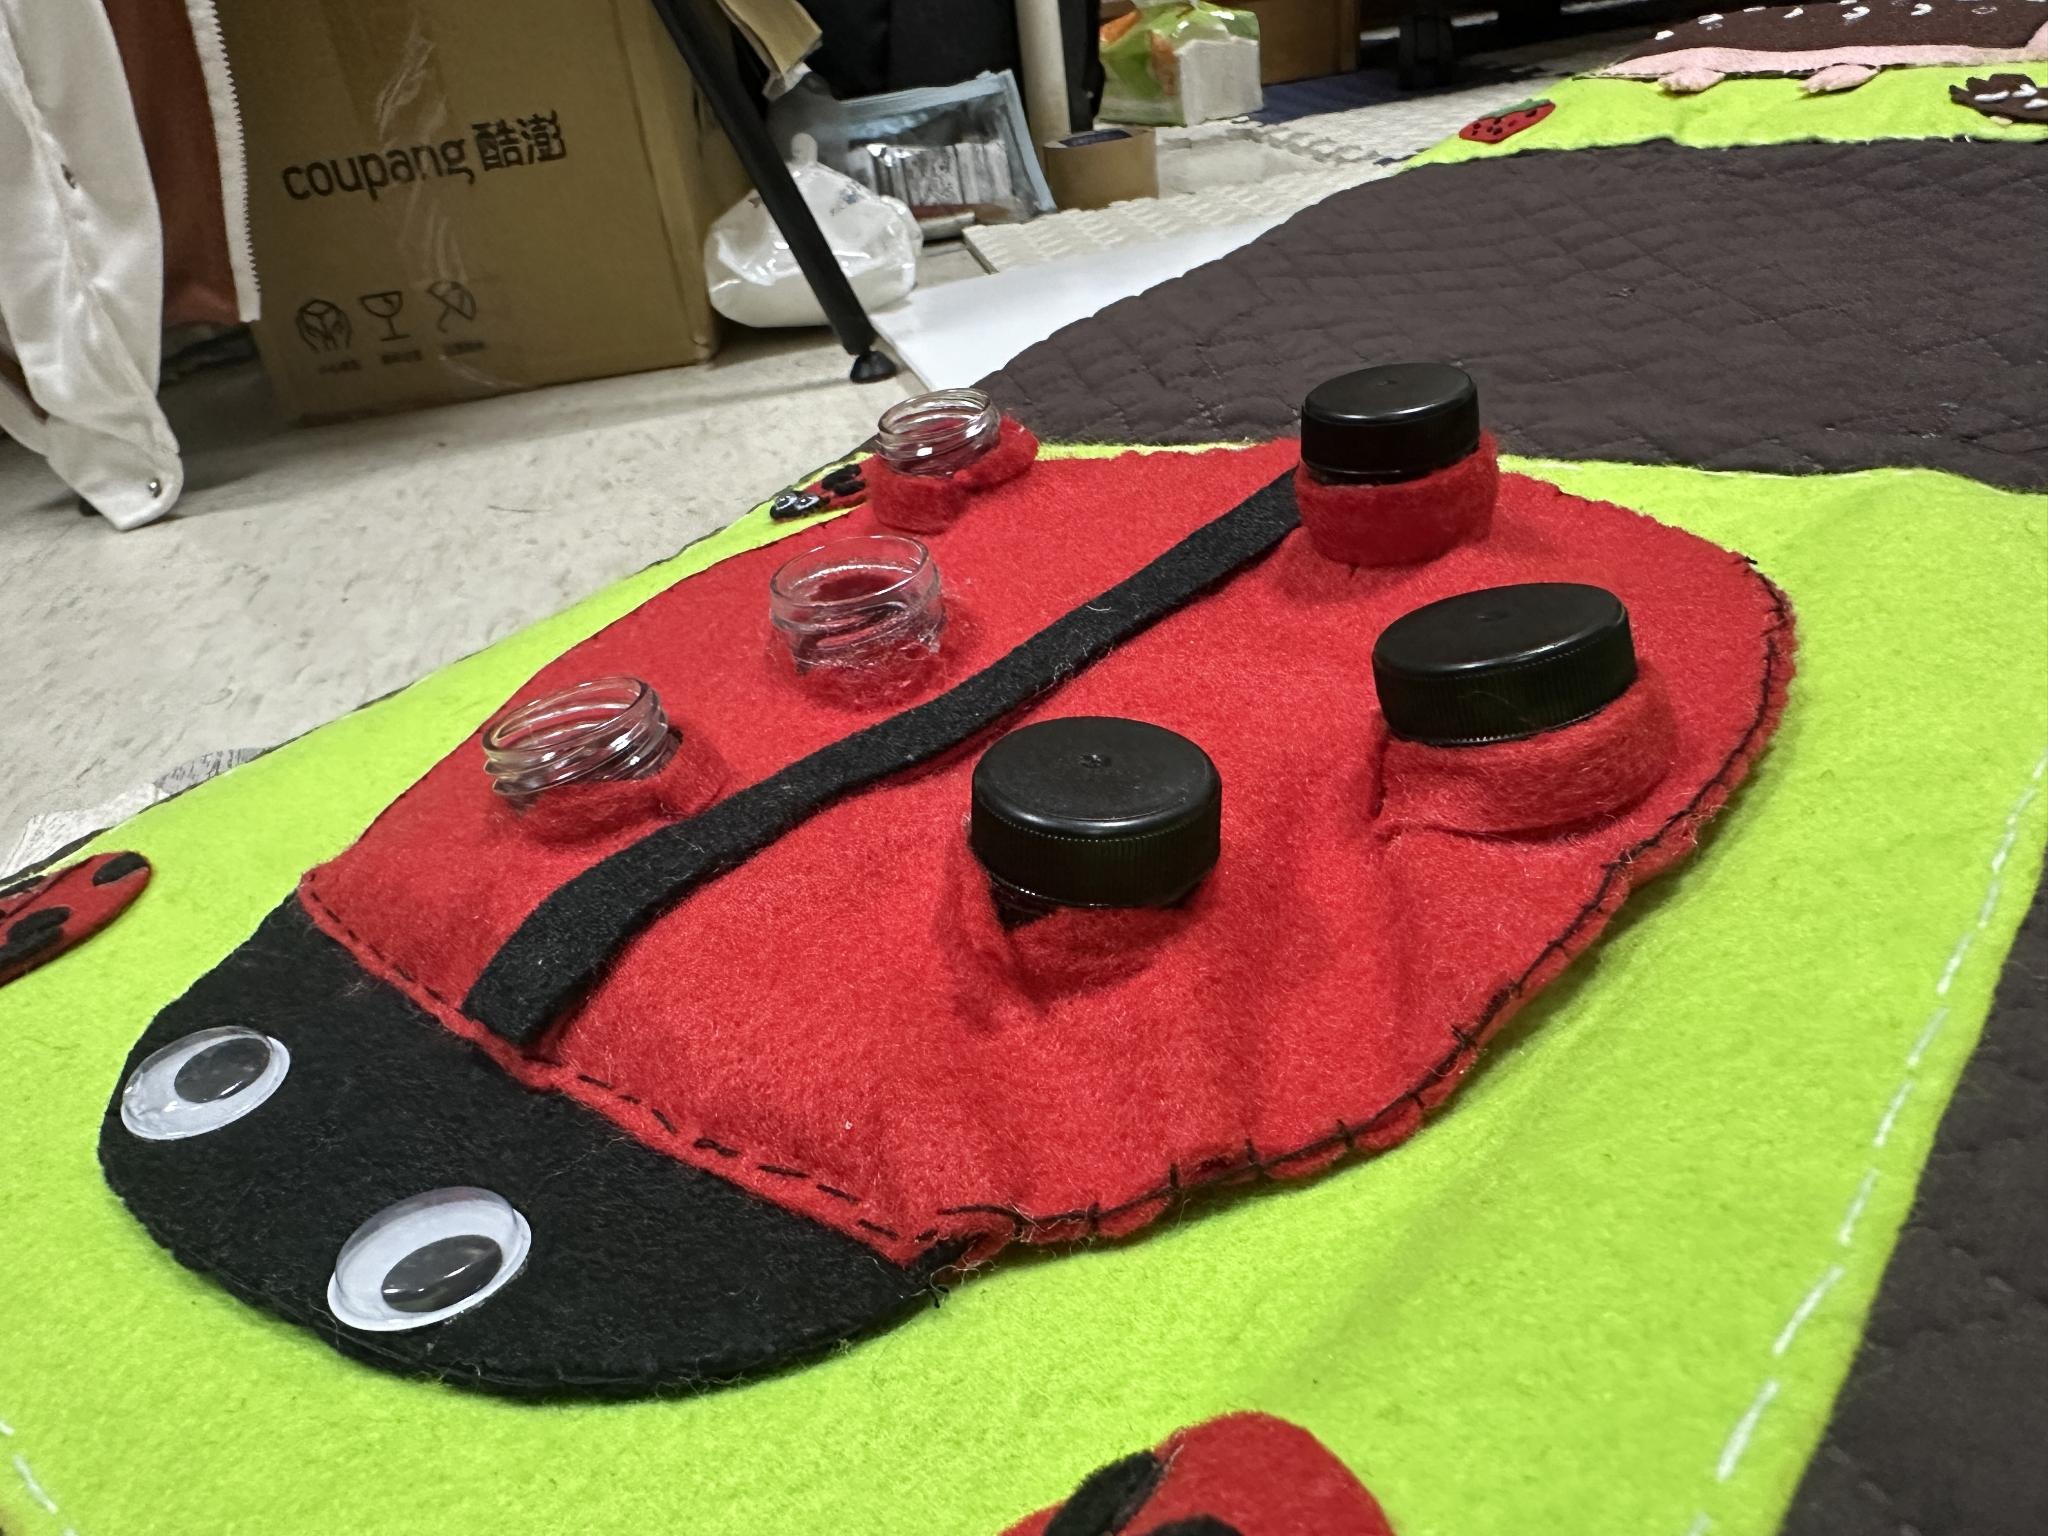cap_ok: (1329, 563, 1703, 844), (955, 691, 1255, 954), (1277, 357, 1529, 565)
